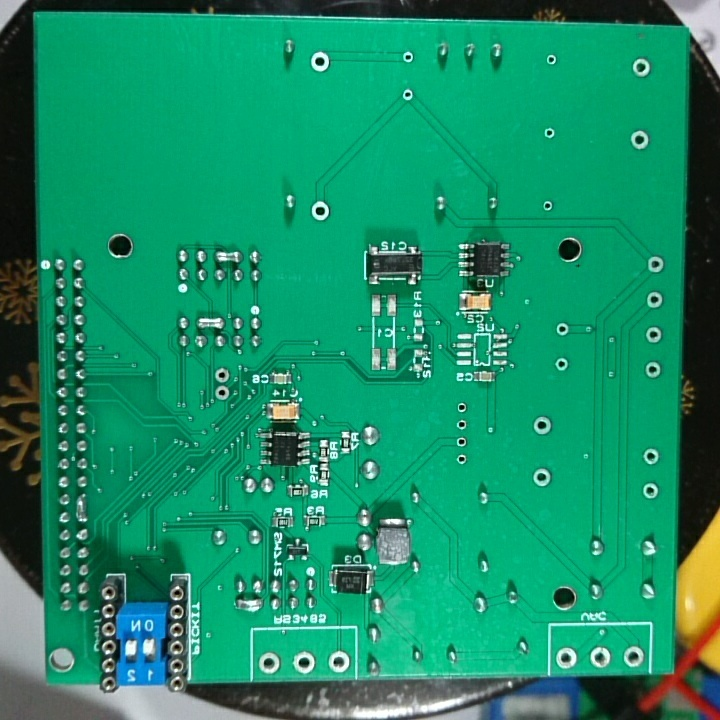F: (256, 649, 284, 678), (291, 649, 319, 677), (325, 648, 353, 675), (588, 644, 613, 672), (308, 49, 331, 78), (628, 126, 651, 155), (307, 198, 331, 225), (530, 413, 554, 438), (619, 645, 645, 668), (644, 287, 666, 313), (554, 646, 578, 669), (531, 465, 553, 489), (631, 55, 652, 80), (641, 479, 661, 503), (211, 383, 232, 405), (646, 252, 665, 276), (641, 447, 662, 468), (642, 360, 663, 380), (645, 323, 663, 346), (552, 354, 571, 375), (211, 366, 233, 383), (553, 320, 571, 340), (399, 48, 417, 67), (453, 451, 472, 468), (453, 433, 469, 452), (454, 417, 471, 433), (400, 86, 415, 104), (540, 196, 555, 214), (454, 400, 470, 415), (542, 124, 555, 142), (545, 52, 557, 69)
P: (234, 594, 268, 615), (74, 490, 89, 525), (194, 315, 226, 330), (214, 248, 242, 265)
